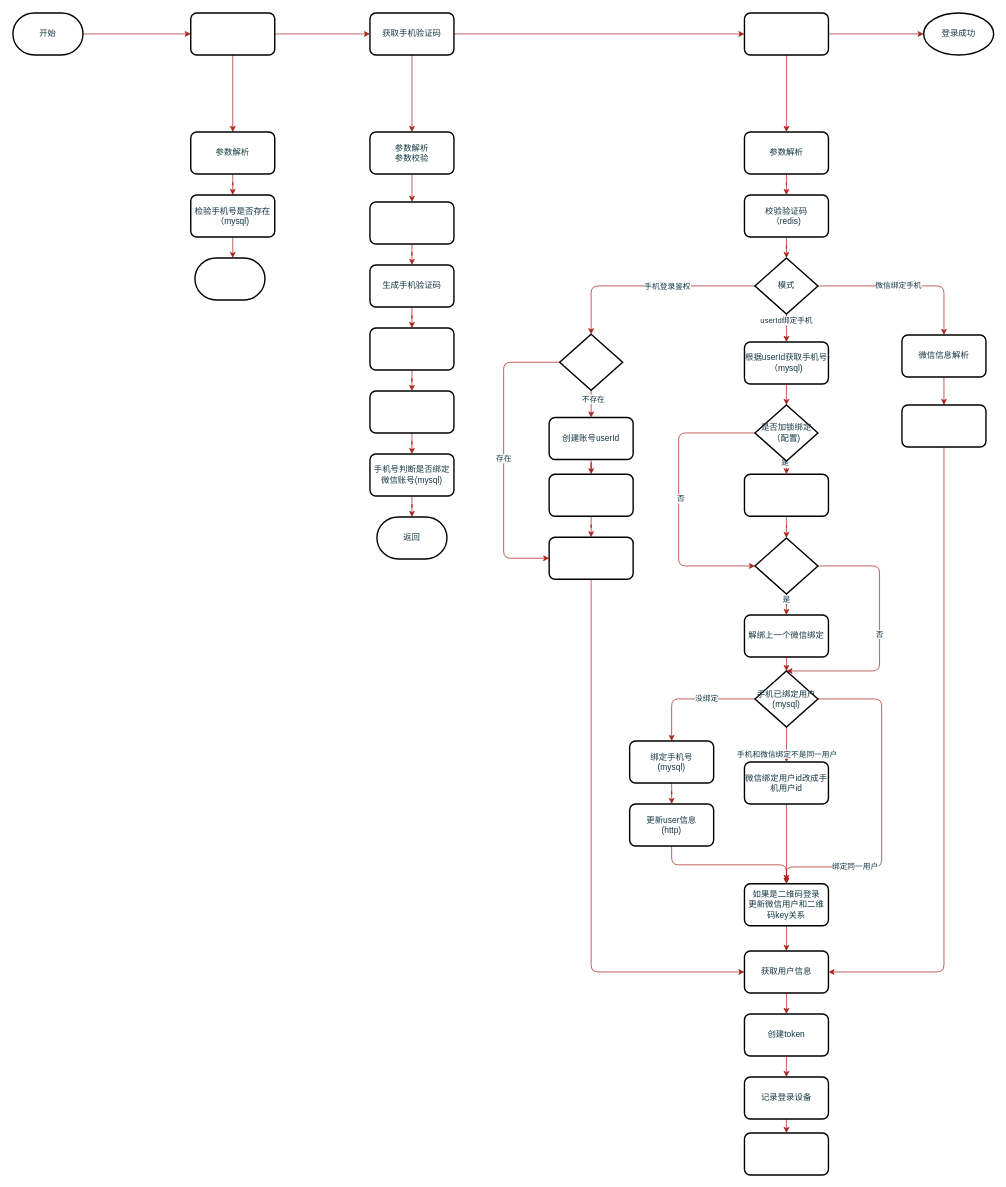
This 1006x1187 diagram has some shape labels left out. Here are the shapes that lost their labels. From the top down, the centre of each, then its label:
At [232,33]: "检查是否绑定手机".
At [786,33]: "验证码鉴权".
At [411,222]: "获取手机号和userId （mysql)".
At [229,278]: "返回userId".
At [411,348]: "存储验证码 (redis,5m)".
At [591,362]: "根据手机检测user是否存在（mysql)".
At [411,411]: "发送验证码 (http)".
At [943,425]: "微信info绑定手机 流程类似userId绑定手机".
At [591,495]: "userId入库 (mysql)".
At [786,495]: "加锁解锁 (redis)".
At [591,558]: "获取微信绑定信息".
At [786,565]: "用户存在 & 已有绑定 (mysql)".
At [786,1153]: "埋点上报".
